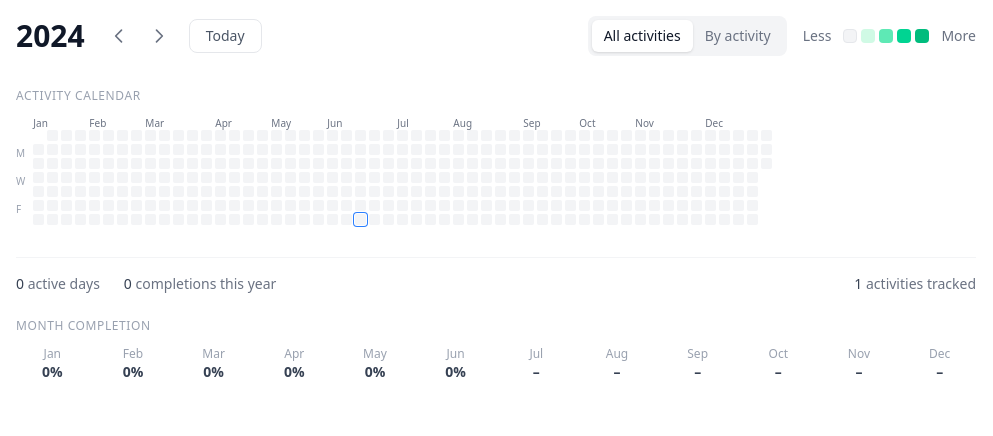
Test: YearView › the All activities / By activity toggle › switches to a row per activity
Click the button "By activity". click: coordinates (738, 36)
box: [693,20,783,52]
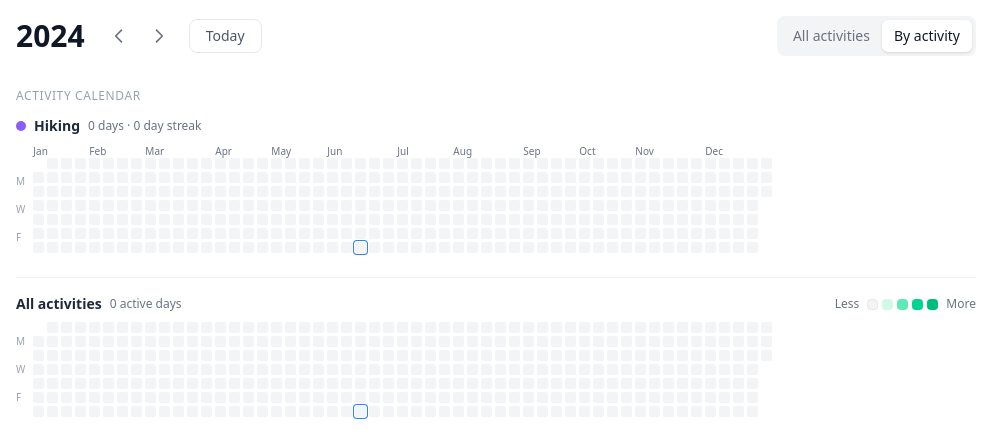
Expected: the element with test id "activity-row-Hiking" is shown, [16,116,976,278]
